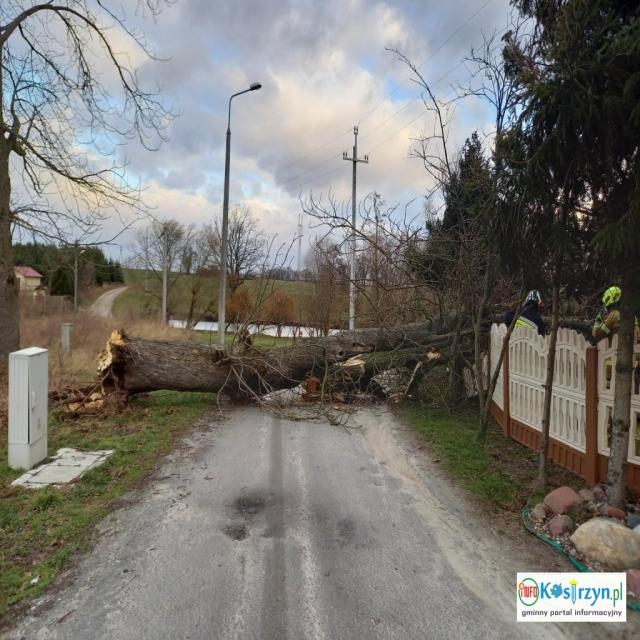fallen_tree: (107, 314, 469, 406)
